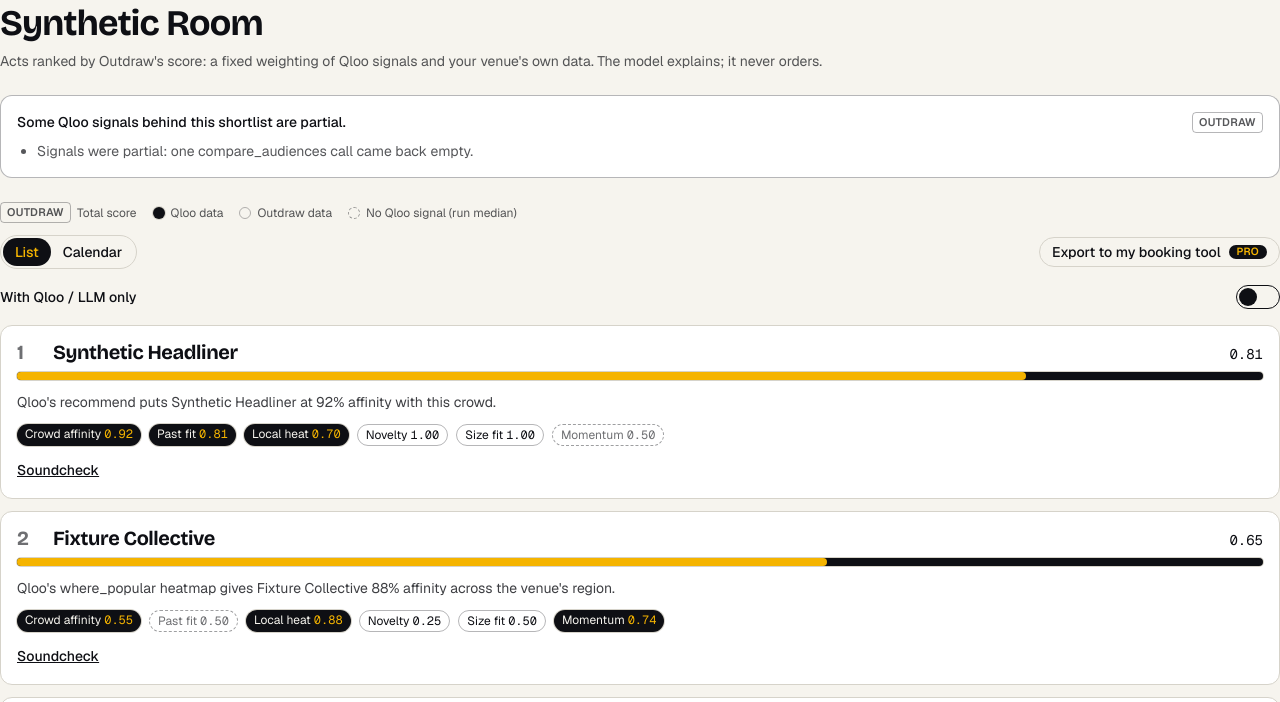
Test case: With Qloo / LLM only toggle › puts the two lists side by side on desktop, with the overlap marked
Click the switch named "With Qloo / LLM only": (1258, 297) [1236,285,1279,309]
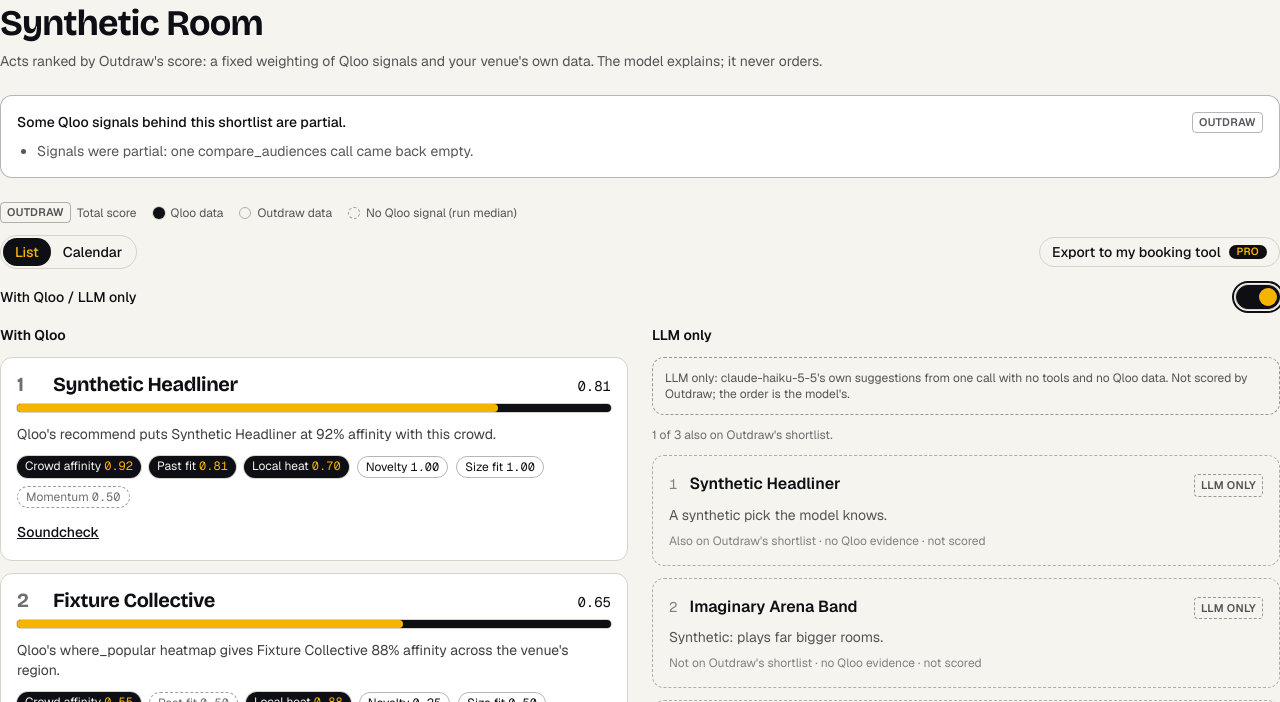
Now the heading "With Qloo" is shown, box [0,326,66,344]
Now the heading "LLM only" is shown, box [652,326,712,344]
Now the text with test id "disclaimer" shows "no Qloo data", box [665,370,1248,402]
Note: Off and on again reads the list already fetched.
Click the switch named "With Qloo / LLM only": (1258, 297) [1236,285,1279,309]
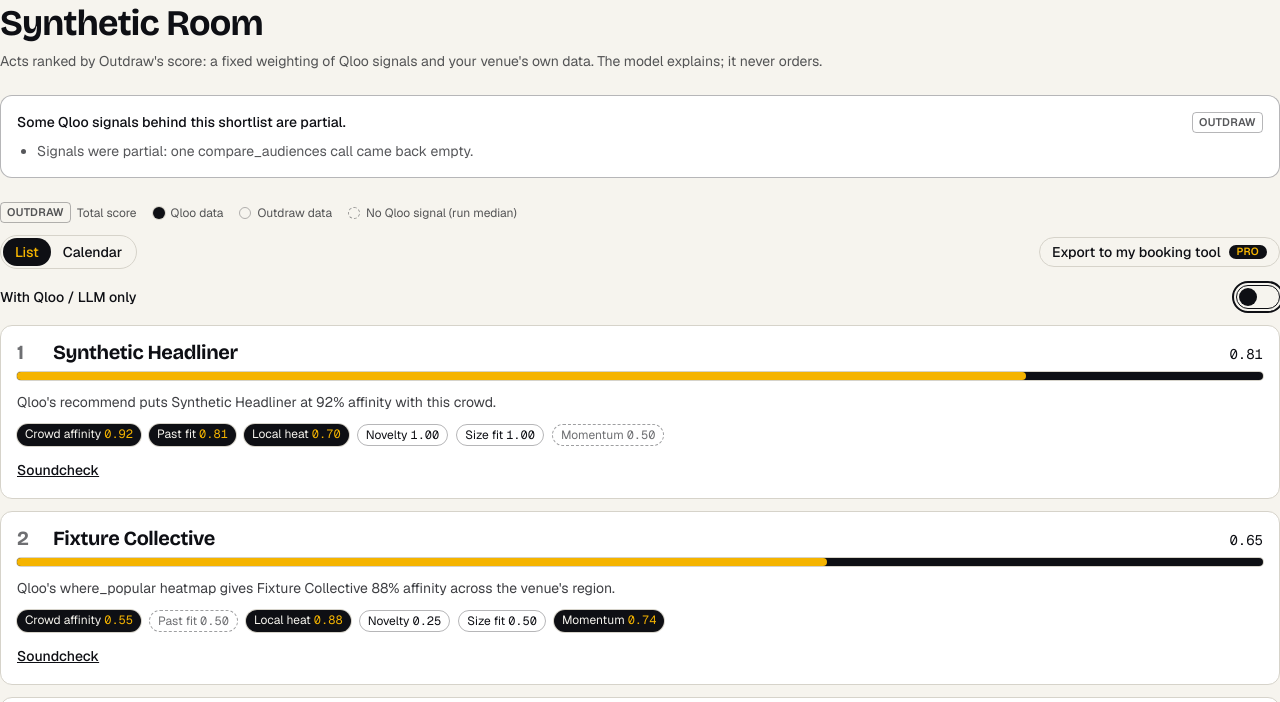
Click the switch named "With Qloo / LLM only": (1258, 297) [1236,285,1279,309]
(page scrolled)
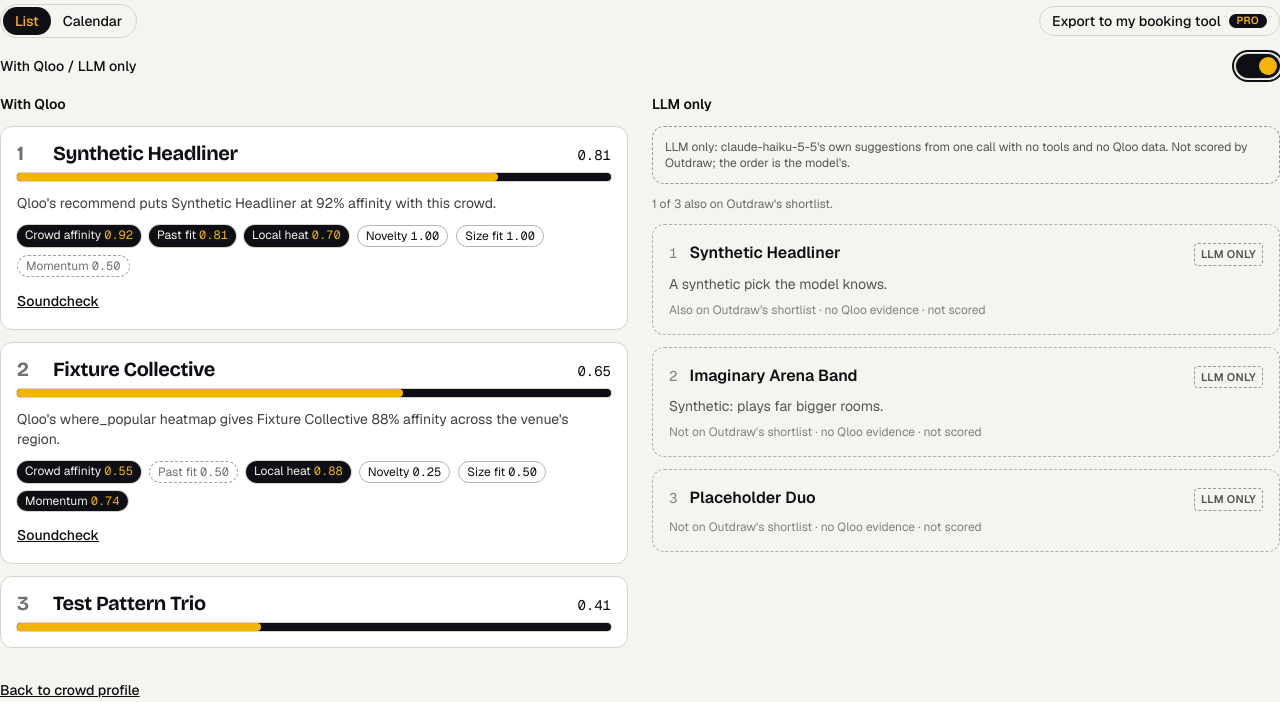
Now the list named "LLM-only acts" is shown, box [652,224,1279,552]
